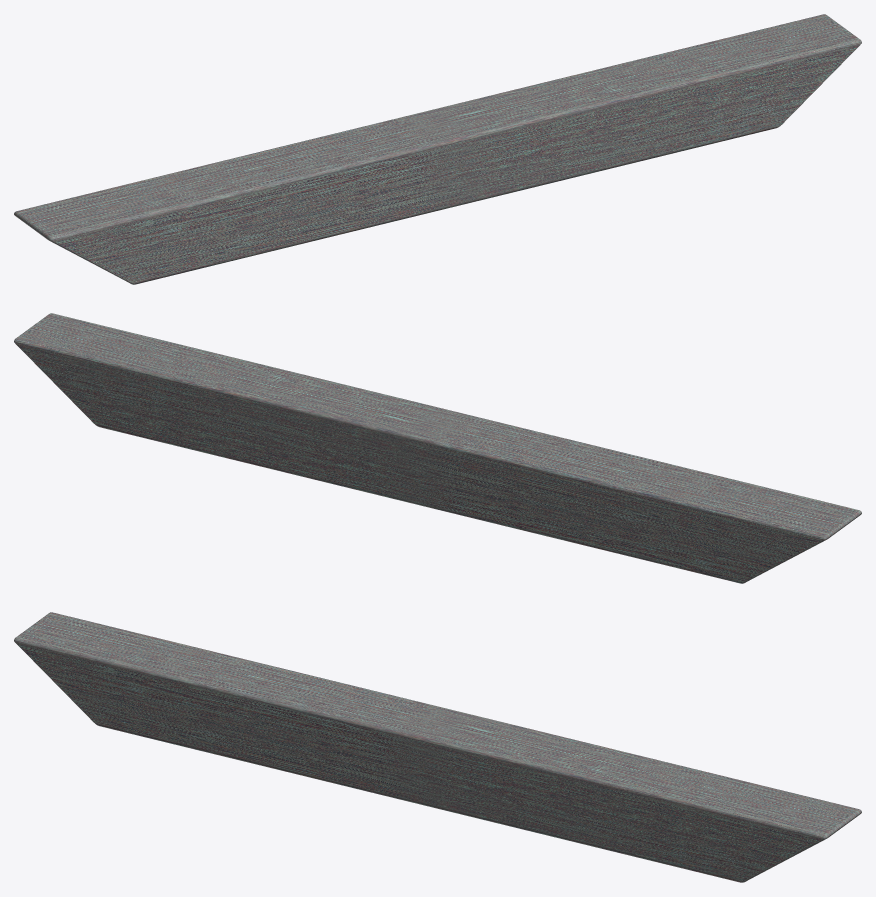
File: GateTop.obj
The picture shows the model from 3 angles, top to bottom: view 1: azimuth 30°, elevation 25°; view 2: azimuth 150°, elevation 25°; view 3: azimuth 330°, elevation 25°; orthographic projection.
Visible parts, largest first — view 1: GateTop; view 2: GateTop; view 3: GateTop.
Part boxes in pixels (x1=…): GateTop: x1=14, y1=14, x2=861, y2=284; GateTop: x1=14, y1=313, x2=861, y2=583; GateTop: x1=14, y1=612, x2=861, y2=882.
Size of the model in its own units: 622 by 50.04 by 50.
Materials: 1 (1 with a texture image).
